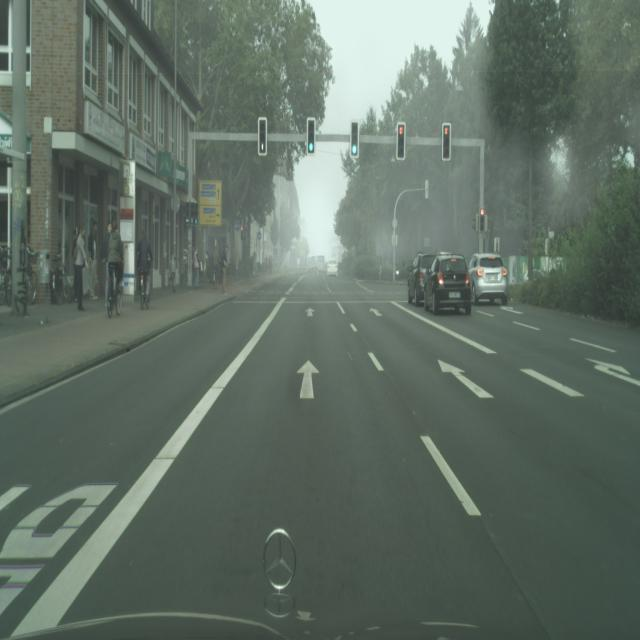bus: (424, 251, 472, 315), (468, 252, 508, 305), (407, 252, 435, 306), (327, 259, 338, 276)
car: (106, 222, 122, 318), (137, 232, 152, 309)
person: (72, 226, 88, 311), (88, 221, 99, 299), (220, 240, 228, 293), (212, 240, 220, 288), (193, 248, 201, 288)
